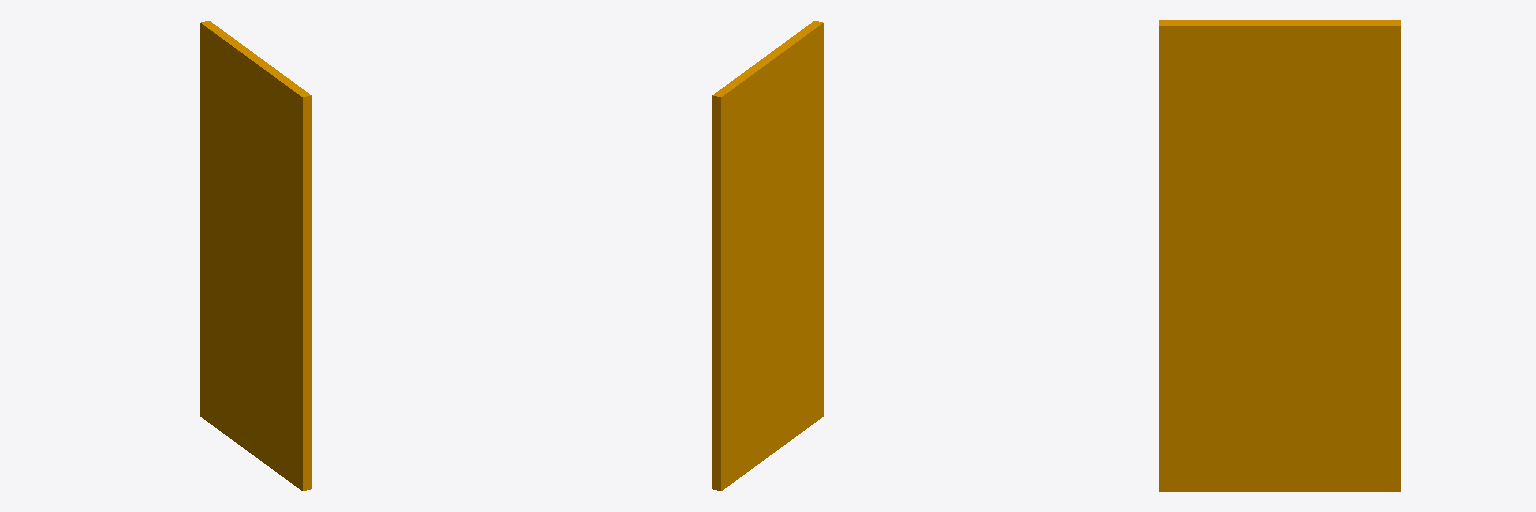
URDF robot description (pallet_rack):
<?xml version="1.0"?>
<robot name="pallet_rack">

  <link name="rack_base">
    
    <inertial>
      <mass value="0.5"/>
      <origin xyz="0 0 0" rpy="0 0 0"/>
      <inertia ixx="0.1" ixy="0.0" ixz="0.0" iyy="0.1" iyz="0.0" izz="0.1"/>
    </inertial>

    <visual><origin xyz="0 0 0" rpy="0 0 0"/><geometry><mesh filename="wallx.dae"/></geometry></visual>
    <collision><origin xyz="0 0 0" rpy="0 0 0"/><geometry><mesh filename="wallx.dae"/></geometry></collision>

  </link>
</robot>

--- Render facts (derived) ---
The picture shows the robot from 3 angles, left to right: view 1: azimuth 30°, elevation 25°; view 2: azimuth 150°, elevation 25°; view 3: azimuth 270°, elevation 25°; orthographic projection.
Model pallet_rack with 1 links and 0 joints (none), rooted at rack_base, posed every joint at zero.
Visible links, largest first — view 1: rack_base; view 2: rack_base; view 3: rack_base.
Boxes of the visible links, x1,y1,x2,y2 form: rack_base: (200,21,311,490); rack_base: (712,21,823,490); rack_base: (1159,20,1400,491).
Size in the robot's own frame: 0.2 by 4 by 8.5 metres.
1 mesh visuals loaded from 1 distinct referenced files (1 Collada DAE).
